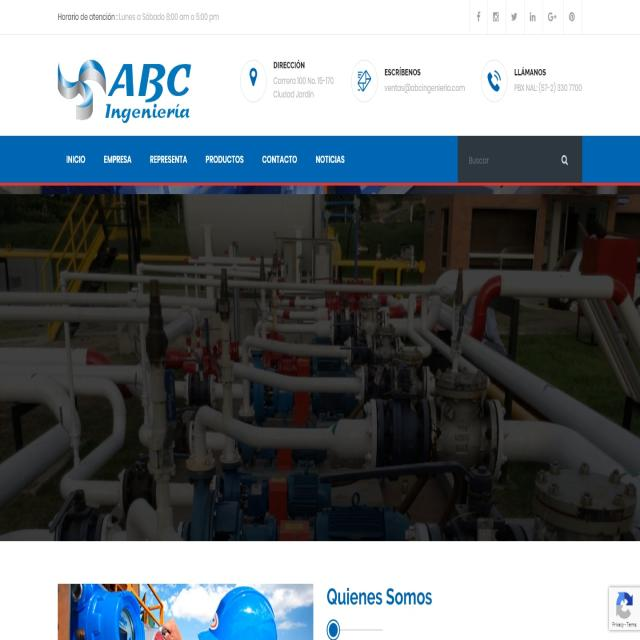button: (144, 141, 190, 176), (200, 142, 248, 175), (256, 142, 298, 178), (54, 142, 95, 175), (100, 139, 138, 174), (307, 145, 346, 177), (554, 144, 577, 175), (526, 0, 545, 35), (562, 0, 580, 35), (469, 1, 488, 32), (508, 0, 524, 34), (490, 0, 505, 34), (546, 3, 562, 32)
field: (459, 136, 581, 183)
heading: (105, 44, 197, 129), (326, 579, 435, 615), (381, 64, 425, 81), (514, 62, 546, 82), (272, 57, 311, 73)
iframe: (609, 586, 640, 633)
image: (2, 184, 639, 538), (56, 584, 315, 640), (46, 47, 106, 124)
label: (465, 152, 495, 171)
text: (58, 9, 224, 24), (270, 77, 341, 107), (380, 78, 464, 99), (510, 78, 585, 94)
